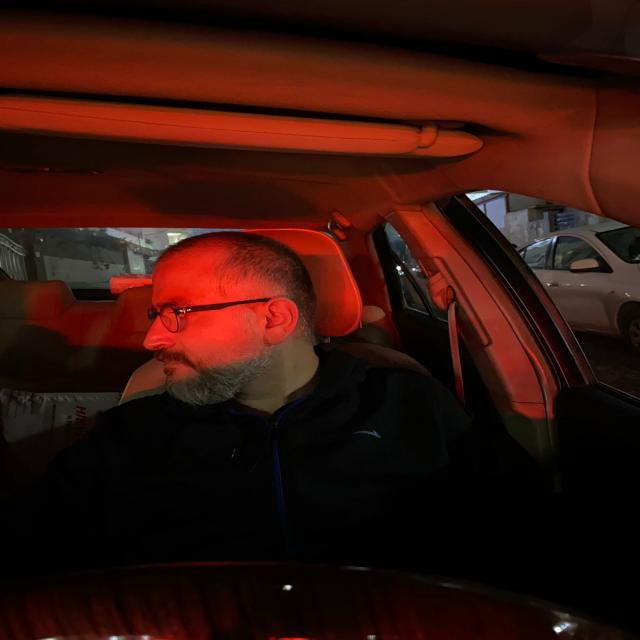person: (135, 246, 324, 407)
